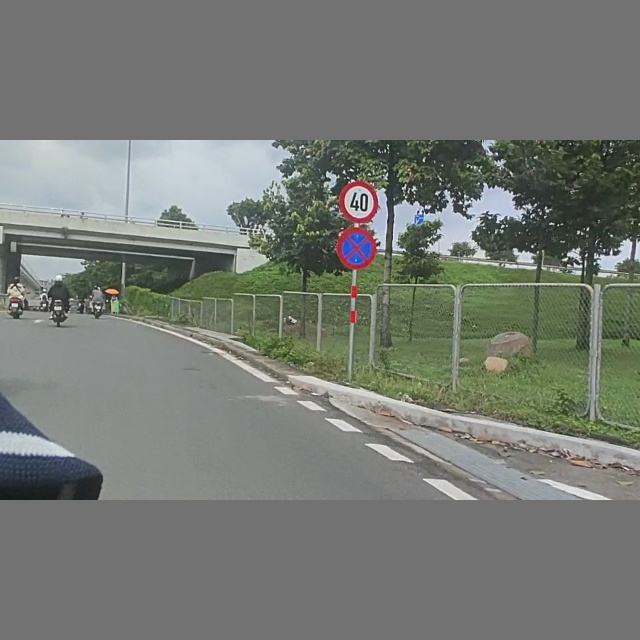P.127*40: (339, 181, 379, 223)
P.130: (337, 227, 377, 271)
